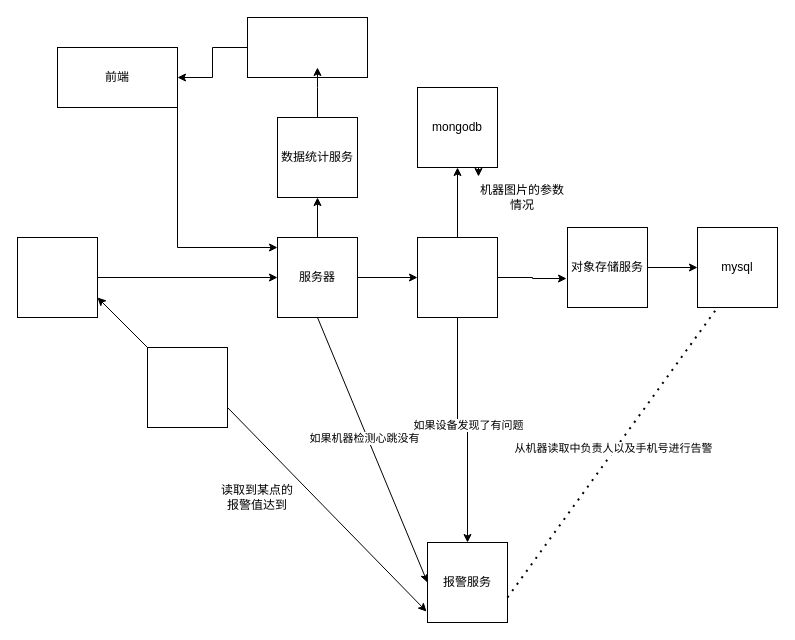
Some shapes in this 795 by 640 pixel diagram are drawn without their labels. The box of each missing label's shape, as (x1, y1, x2, y2) in pixels:
redis: (246, 16, 368, 78)
图片检测: (416, 236, 498, 318)
定时任务: (146, 346, 228, 428)
机器: (16, 236, 98, 318)
